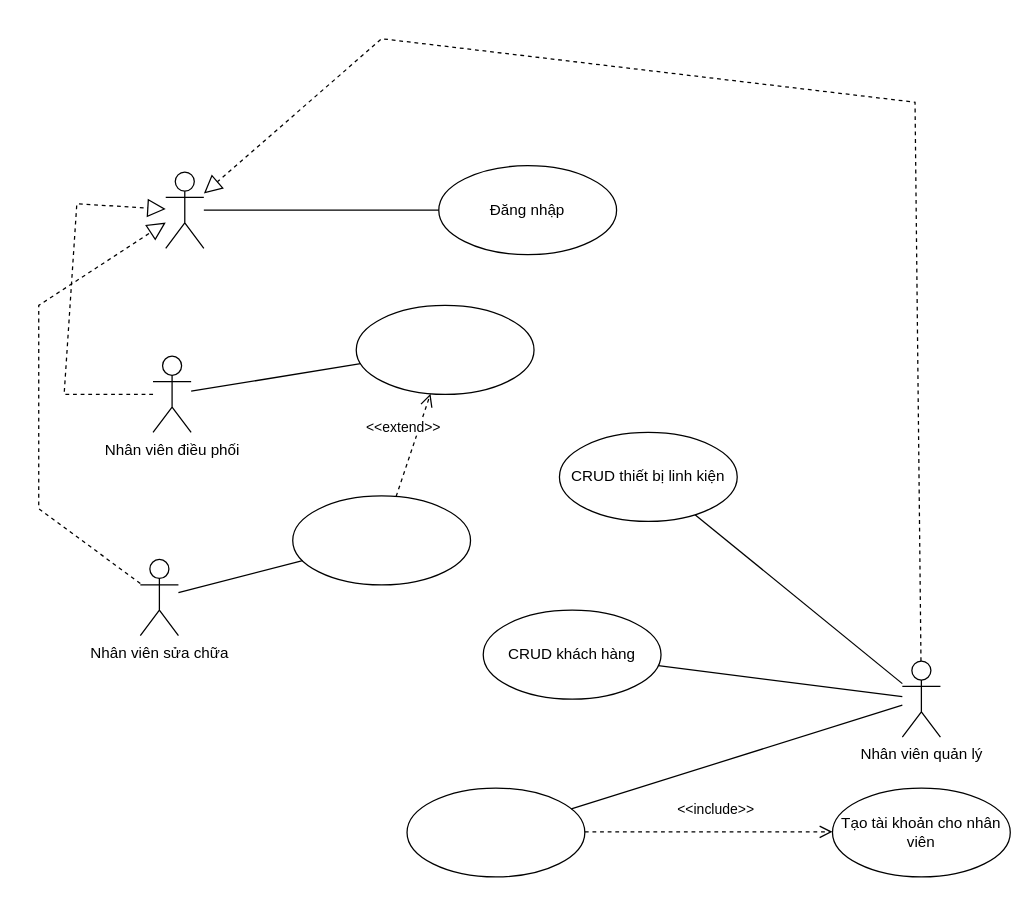
Some shapes in this 1033 by 899 pixel diagram are drawn without their labels. Here are the shapes that lost their labels. From the top down, the centre of each, then its label:
At (184,209): "Nhân viên".
At (444,349): "CRUD phiếu sửa chữa".
At (381,540): "Cập nhật tình hình sửa chữa".
At (495,832): "CRUD nhân viên".
